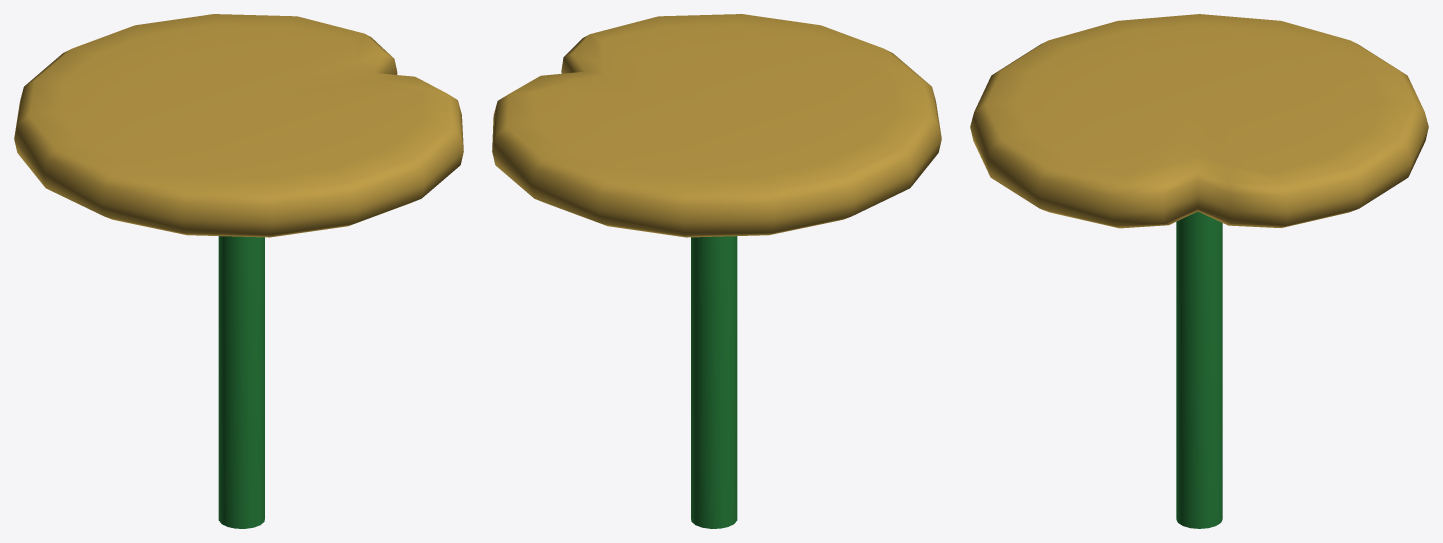
The model's file is PlatformAlgae.fbx.
3 renders of one model, left to right at view 1: azimuth 30°, elevation 25°; view 2: azimuth 150°, elevation 25°; view 3: azimuth 270°, elevation 25°, orthographic.
Parts seen in each view (by area): view 1: pCylinder2, pCylinder1; view 2: pCylinder2, pCylinder1; view 3: pCylinder2, pCylinder1.
Part boxes in pixels (x1=…): pCylinder2: x1=14, y1=14, x2=463, y2=237; pCylinder1: x1=218, y1=236, x2=264, y2=528; pCylinder2: x1=492, y1=14, x2=941, y2=237; pCylinder1: x1=691, y1=236, x2=737, y2=528; pCylinder2: x1=970, y1=14, x2=1428, y2=228; pCylinder1: x1=1176, y1=211, x2=1222, y2=528.
Size of the model in its own units: 3.83 by 4.08 by 4.06.
